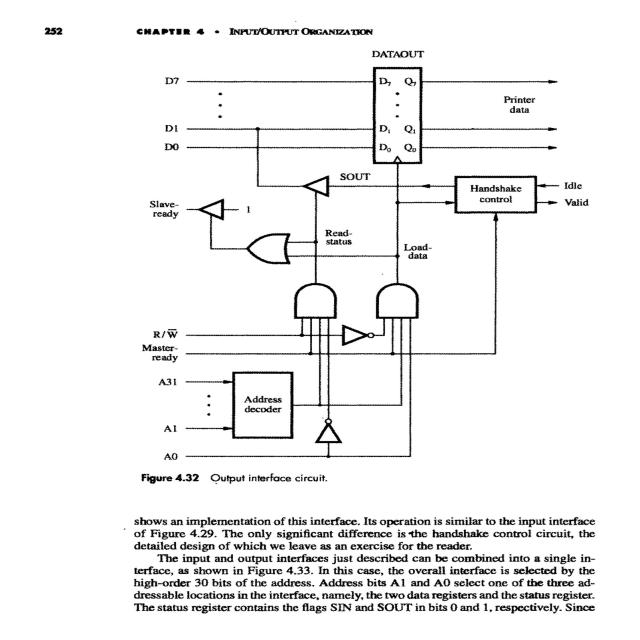diagram: (121, 46, 608, 496)
